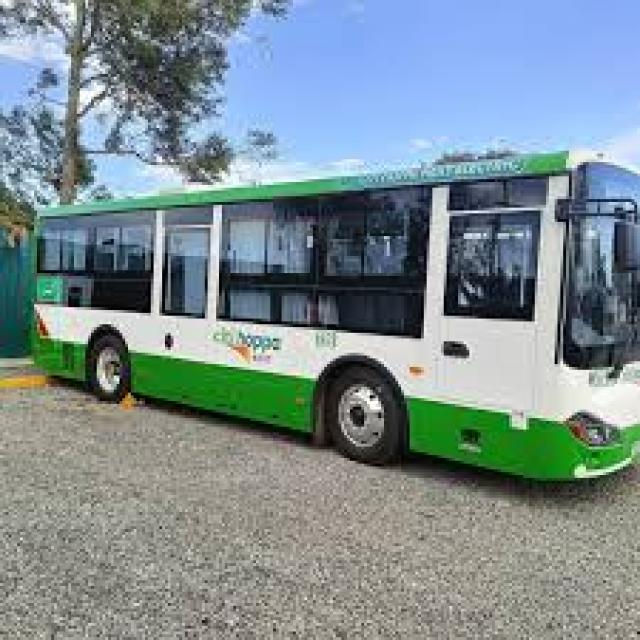bus: (17, 106, 640, 503)
